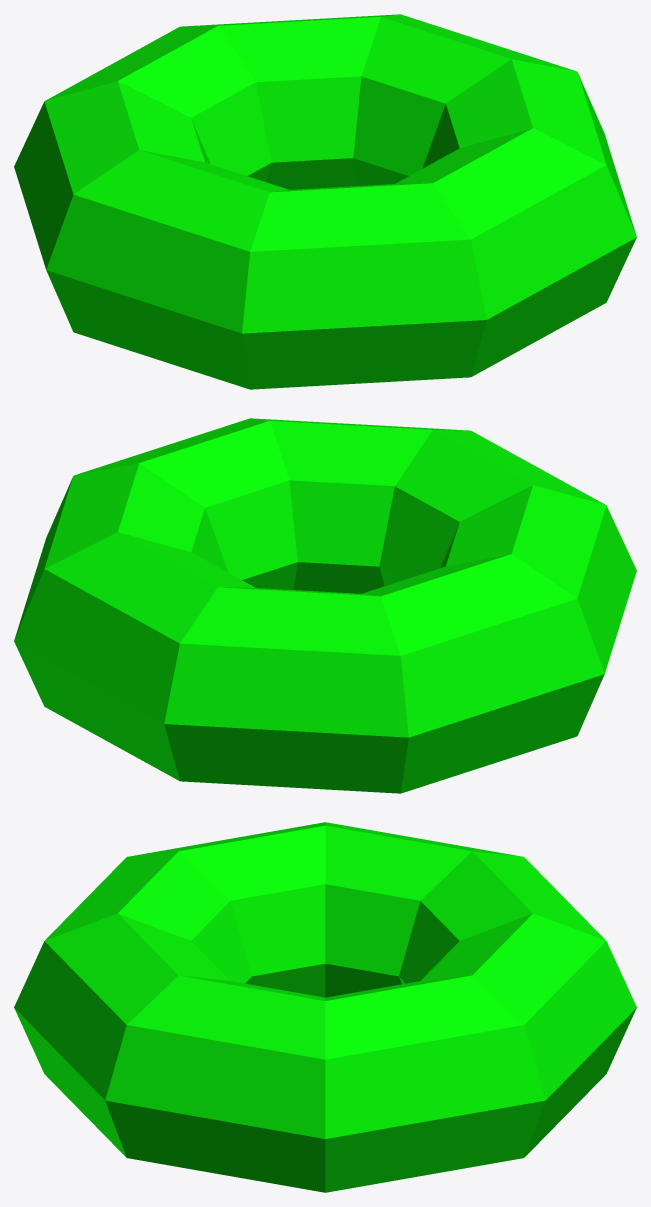
The picture shows the model from 3 angles, top to bottom: view 1: azimuth 30°, elevation 25°; view 2: azimuth 150°, elevation 25°; view 3: azimuth 270°, elevation 25°; orthographic projection. The views are drawn at different scales.
Visible parts, largest first — view 1: Low_LOD; view 2: Low_LOD; view 3: Low_LOD.
Boxes of the visible parts, x1=… form: Low_LOD: x1=14, y1=14, x2=636, y2=389; Low_LOD: x1=14, y1=418, x2=636, y2=793; Low_LOD: x1=14, y1=822, x2=636, y2=1192.
Size of the model in its own units: 0.6 by 0.2 by 0.6.
